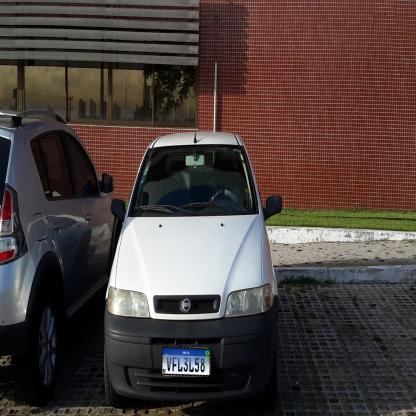PlacaM: (162, 347, 210, 376)
